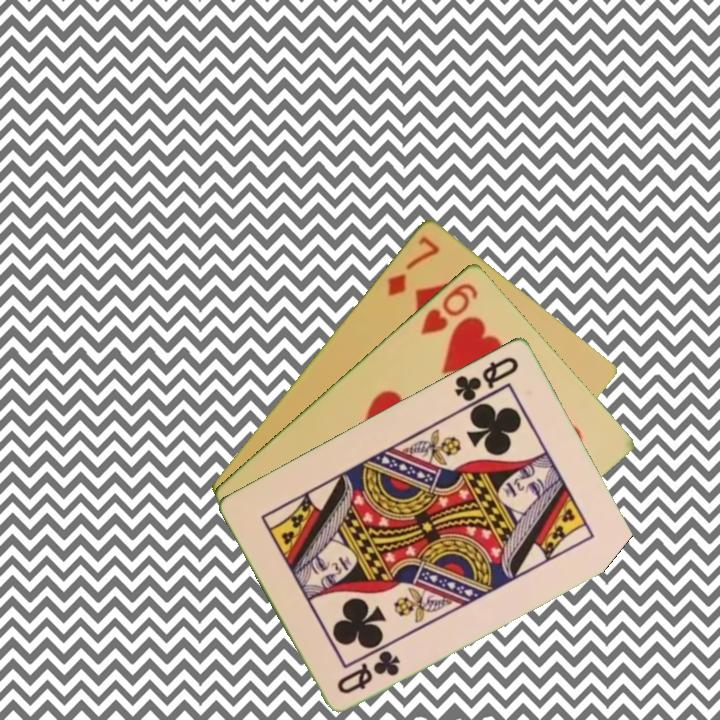6h: (416, 278, 481, 338)
7d: (383, 232, 443, 299)
Qc: (450, 352, 522, 410), (333, 646, 403, 696)
